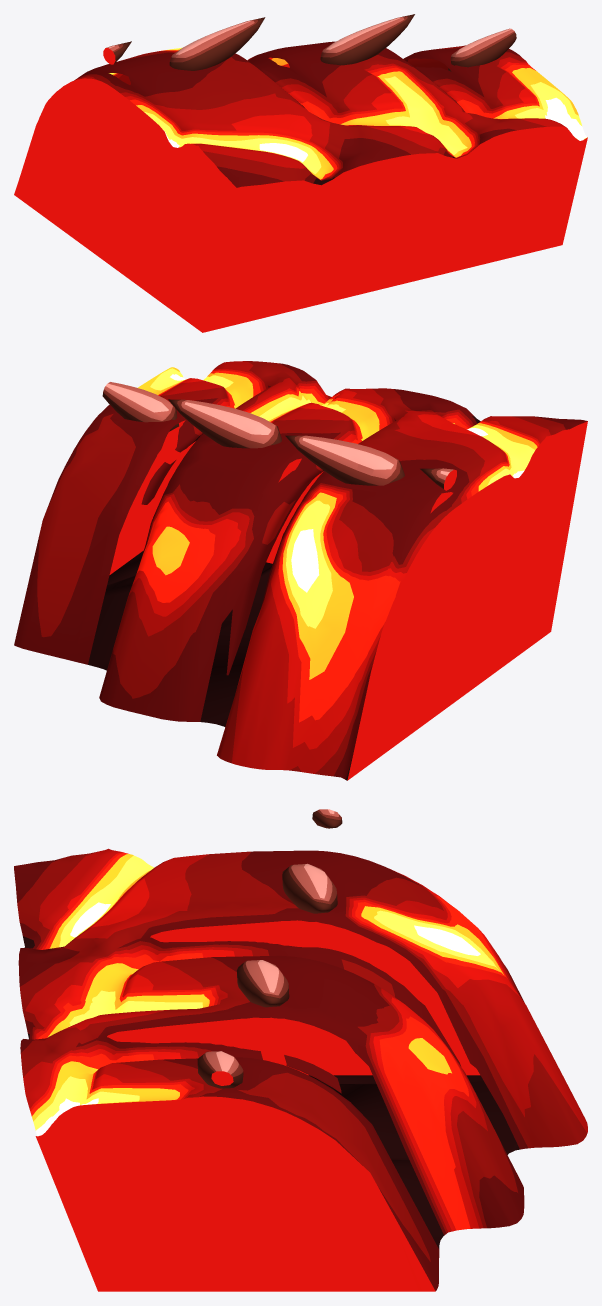
File: lava_grub_l_t3.glb
3 views of the same model, one above another, from view 1: azimuth 30°, elevation 25°; view 2: azimuth 150°, elevation 25°; view 3: azimuth 270°, elevation 25° (orthographic). The views are drawn at different scales.
Visible parts, largest first — view 1: lava_grub_l_t3; view 2: lava_grub_l_t3; view 3: lava_grub_l_t3.
Part boxes in pixels (x1=…): lava_grub_l_t3: x1=14, y1=14, x2=587, y2=332; lava_grub_l_t3: x1=14, y1=361, x2=587, y2=780; lava_grub_l_t3: x1=14, y1=809, x2=587, y2=1291.
Size of the model in its own units: 24 by 13.77 by 26.92.
